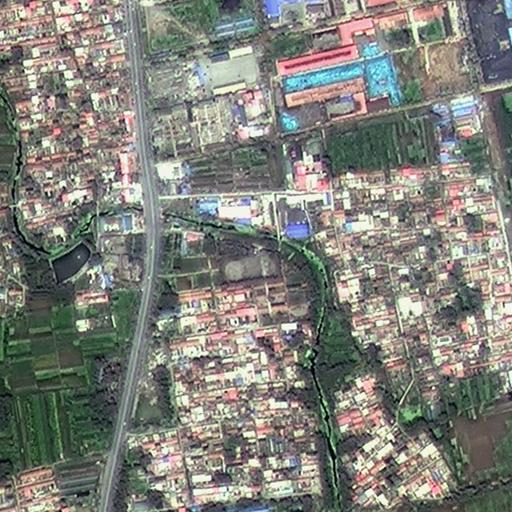school: (218, 248, 288, 296)
